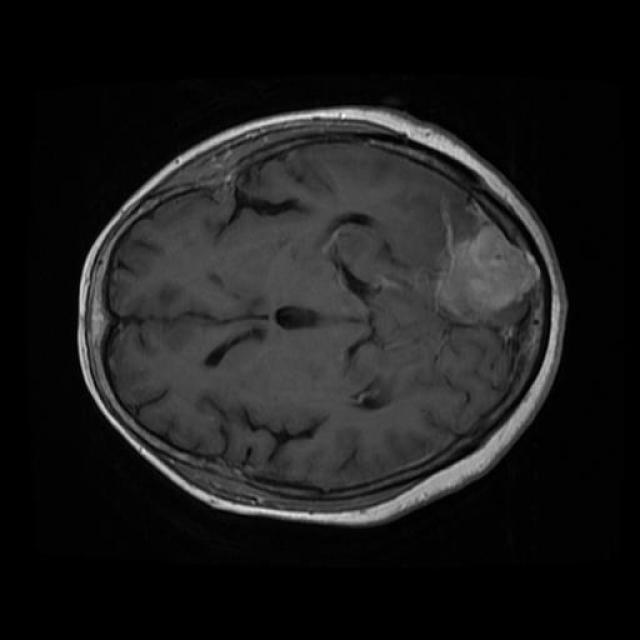Meningioma: (437, 221, 539, 326)
